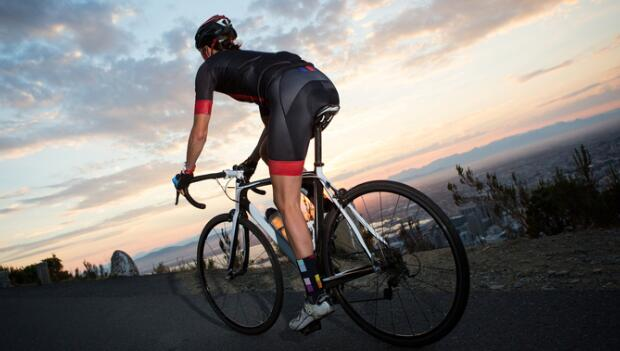bicycle: (152, 158, 486, 349)
